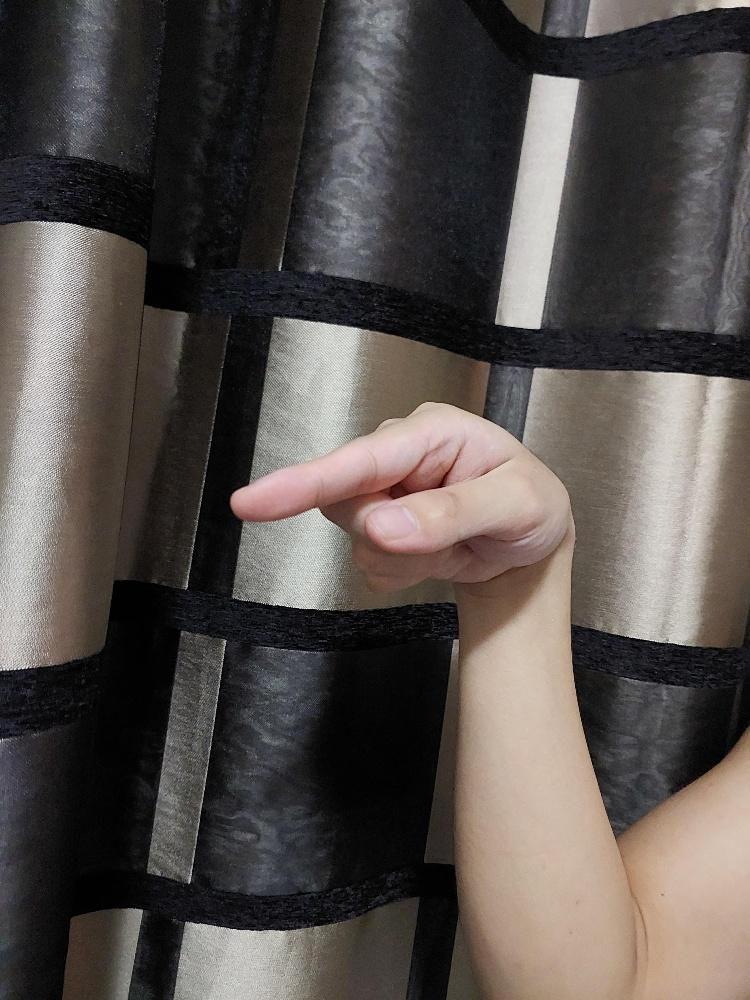z: (228, 398, 566, 594)
